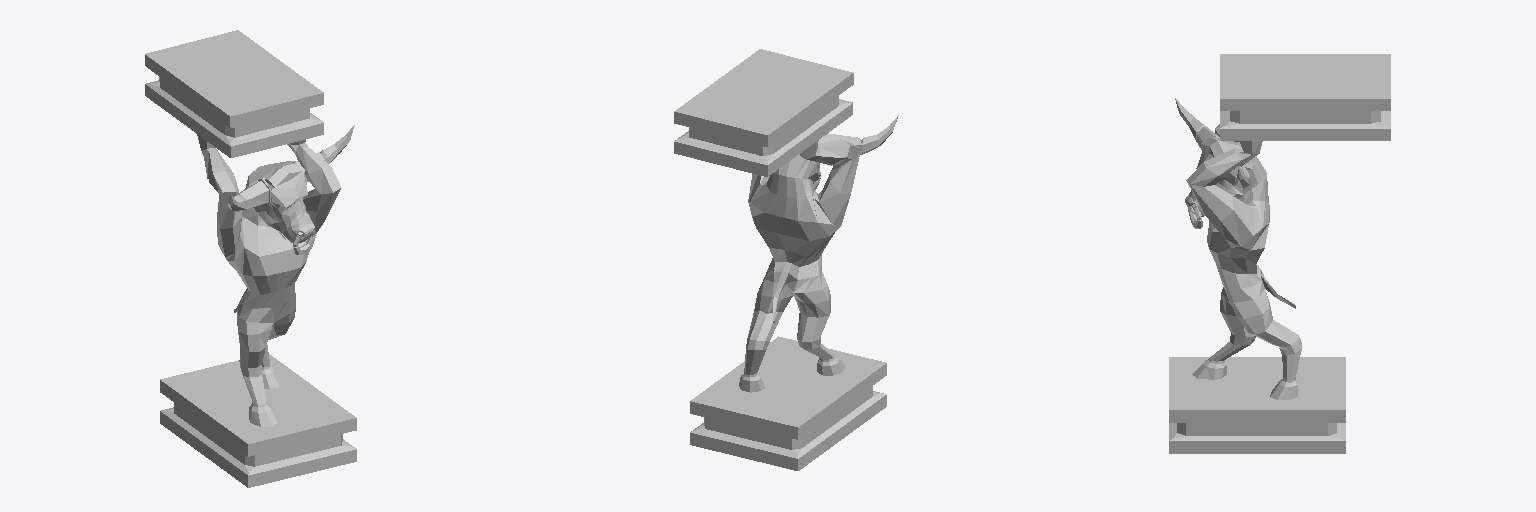
Rendered from stier versie 2.obj.
The picture shows the model from 3 angles: view 1: azimuth 30°, elevation 25°; view 2: azimuth 150°, elevation 25°; view 3: azimuth 270°, elevation 25°; orthographic projection.
Visible parts, largest first — view 1: pasted__pasted__pasted__Minotaurus_statue9; view 2: pasted__pasted__pasted__Minotaurus_statue9; view 3: pasted__pasted__pasted__Minotaurus_statue9.
Boxes of the visible parts, box(x1,y1,x2,y2) form: pasted__pasted__pasted__Minotaurus_statue9: box(145, 30, 356, 487); pasted__pasted__pasted__Minotaurus_statue9: box(674, 49, 898, 470); pasted__pasted__pasted__Minotaurus_statue9: box(1169, 54, 1390, 453).
Size of the model in its own units: 439 by 946 by 543.